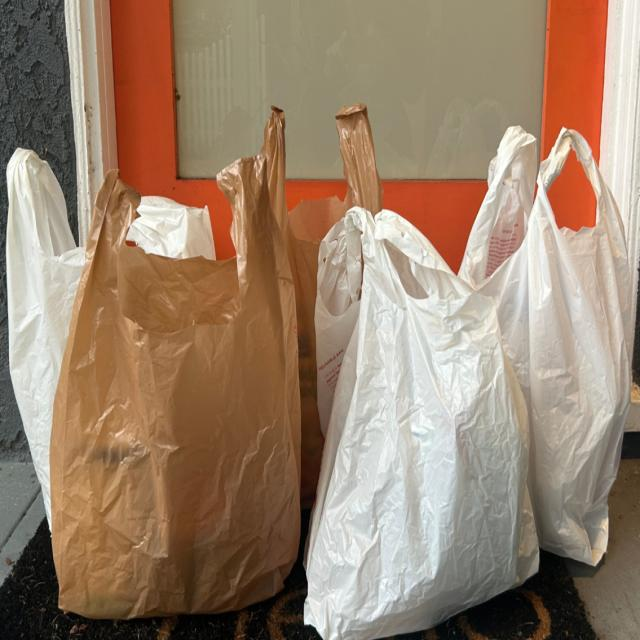Single-layer Plastic: (50, 155, 300, 619), (305, 208, 539, 638), (459, 127, 632, 566), (261, 103, 382, 508), (6, 149, 85, 519), (126, 196, 215, 260)
